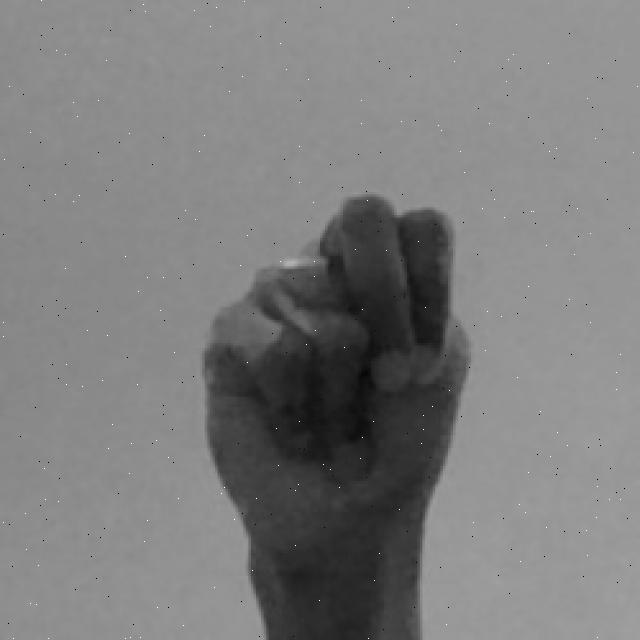N: (191, 187, 480, 640)
